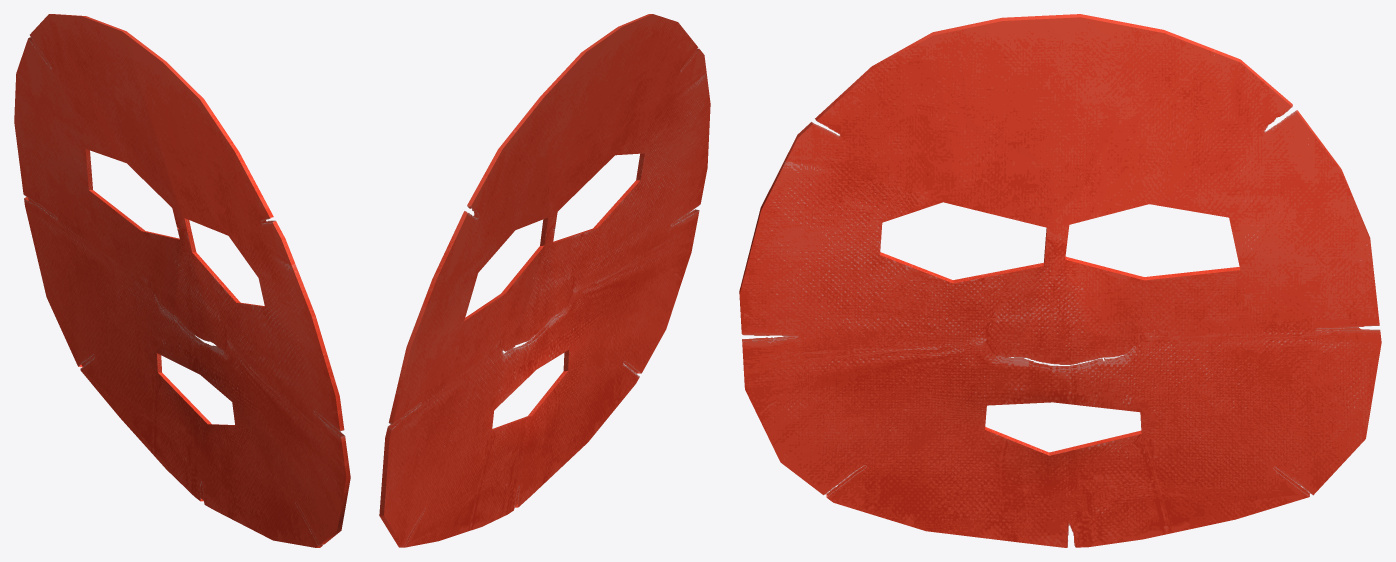
Rendered from FacialMask_1.fbx.
The picture shows the model from 3 angles, left to right: view 1: azimuth 30°, elevation 25°; view 2: azimuth 150°, elevation 25°; view 3: azimuth 270°, elevation 25°; orthographic projection. The views are drawn at different scales.
Parts seen in each view (by area): view 1: Mascara.Facial 1; view 2: Mascara.Facial 1; view 3: Mascara.Facial 1.
Boxes of the visible parts, left/top/right/bottom form: Mascara.Facial 1: left=14, top=14, right=350, bottom=547; Mascara.Facial 1: left=379, top=14, right=710, bottom=547; Mascara.Facial 1: left=739, top=14, right=1381, bottom=547.
Bounding box in the file's own units: 31.99 × 186 × 219.
